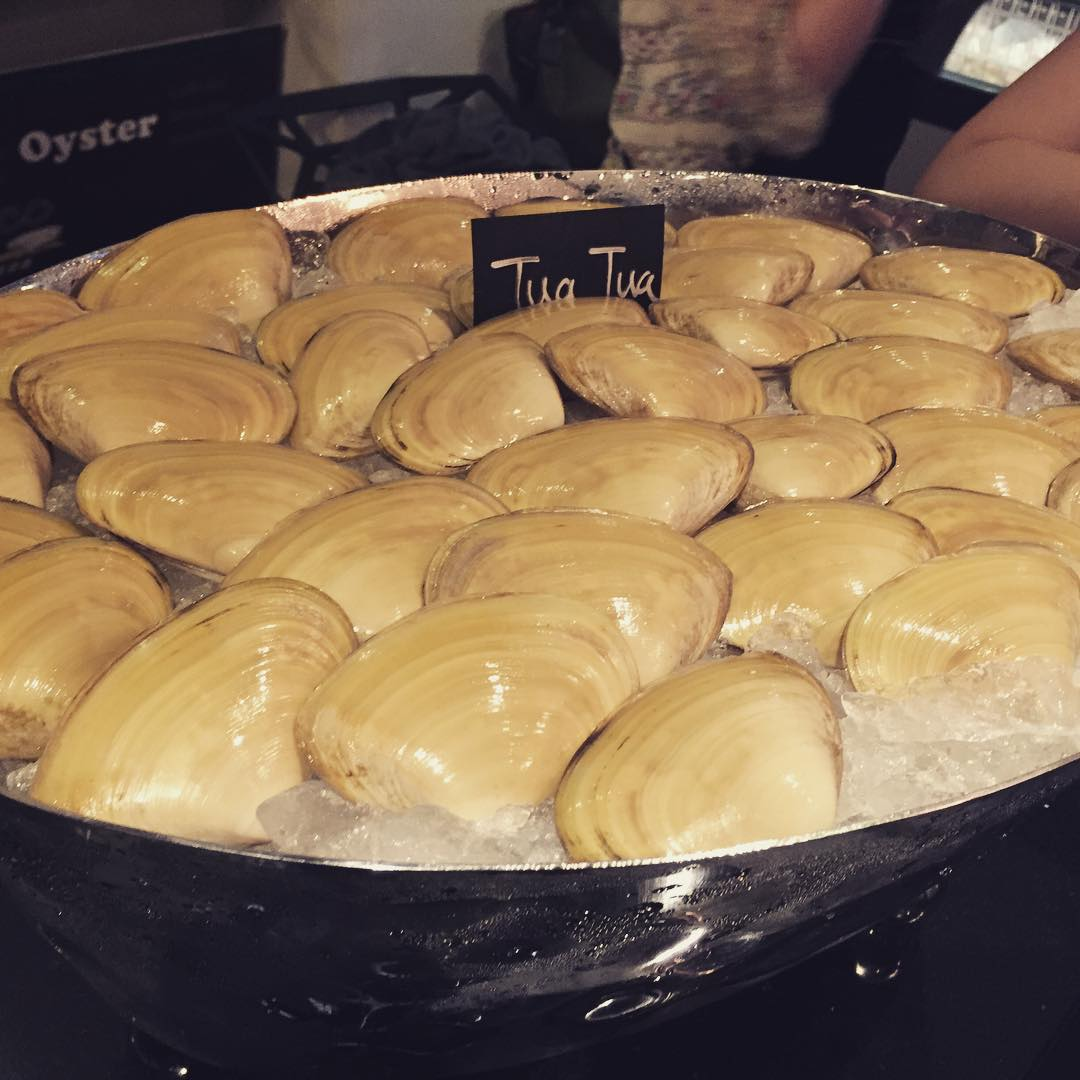tuatua: (37, 576, 359, 860), (296, 590, 644, 840), (546, 653, 852, 871), (423, 507, 737, 683), (696, 490, 948, 658), (225, 471, 503, 623), (75, 433, 364, 578), (1, 532, 173, 760), (844, 539, 1080, 689), (468, 412, 753, 533), (12, 342, 298, 458), (375, 331, 573, 474), (75, 206, 294, 324), (546, 321, 771, 426), (864, 406, 1080, 507), (289, 306, 428, 458), (859, 230, 1073, 326), (785, 333, 1018, 414), (723, 408, 902, 501), (252, 280, 469, 356), (785, 283, 1014, 353), (328, 198, 475, 298), (655, 290, 843, 365), (680, 212, 871, 285), (882, 480, 1080, 545), (462, 301, 653, 362), (659, 240, 823, 310)
